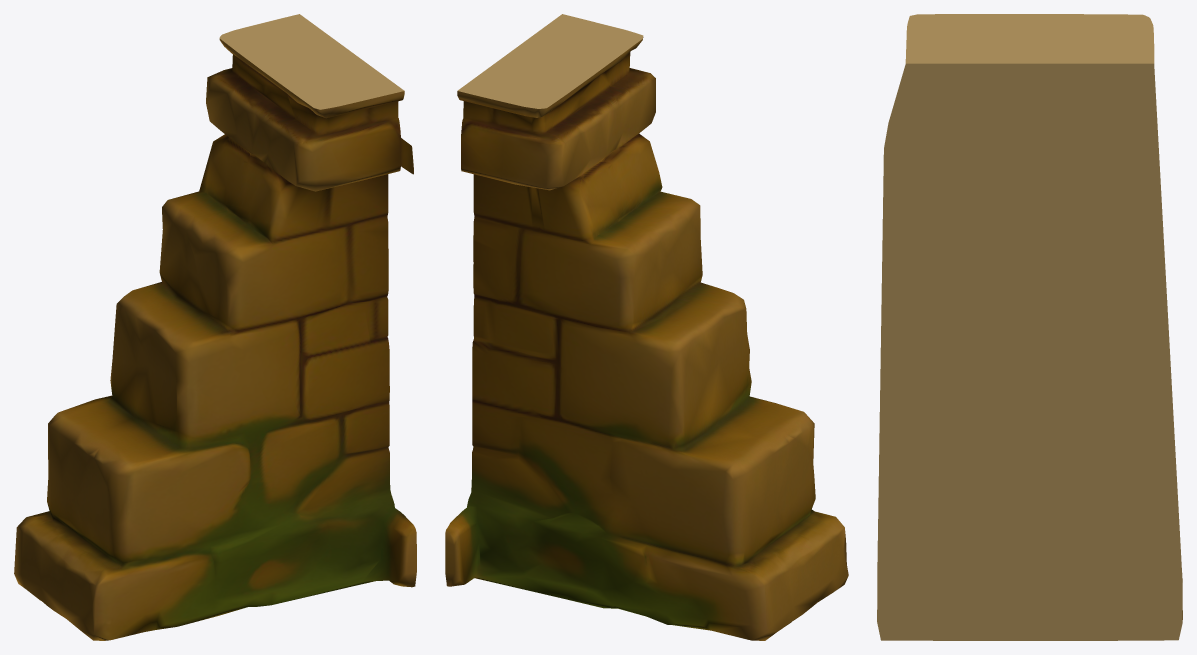
Rendered from stone_block.glb.
3 views of the same model, side by side, from view 1: azimuth 30°, elevation 25°; view 2: azimuth 150°, elevation 25°; view 3: azimuth 270°, elevation 25° (orthographic). The views are drawn at different scales.
Parts seen in each view (by area): view 1: gate_mesh; view 2: gate_mesh; view 3: gate_mesh.
Part boxes in pixels (x1,y1,x2,y2): gate_mesh: (14, 14, 416, 640); gate_mesh: (445, 14, 848, 640); gate_mesh: (877, 14, 1182, 640).
Size of the model in its own units: 0.8 by 1.25 by 0.6.
Materials: 2 (1 with a texture image).
